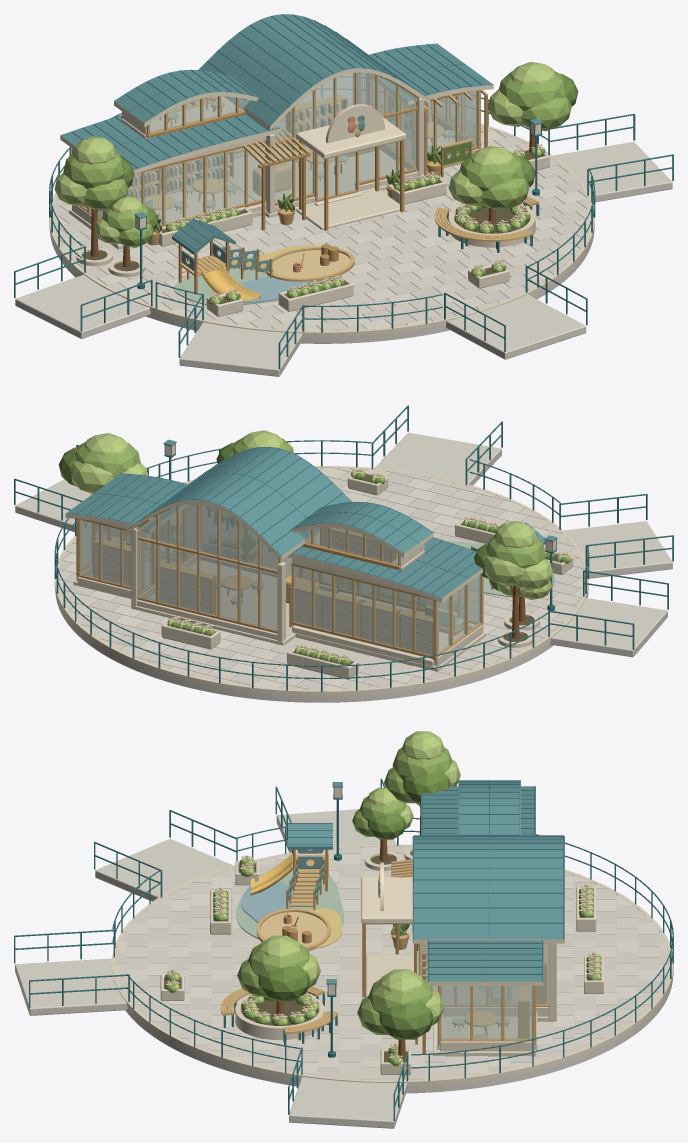
Rendered from parent-child-centre.glb.
3 views of the same model, one above another, from view 1: azimuth 30°, elevation 25°; view 2: azimuth 150°, elevation 25°; view 3: azimuth 270°, elevation 25° (orthographic). The views are drawn at different scales.
Visible parts, largest first — view 1: SiteAndBridgeStubs_Components, SiteAndBridgeStubs_Components__stone, MainCurvedHall__roof, MainCurvedHall__Clear warm architectural glazing, SiteAndBridgeStubs_Components__rail, LeftFamilyReadingWing__Clear warm architectural glazing, LeftFamilyReadingWing__roof, RightCareWing__roof, SiteAndBridgeStubs_Components__cream, UpperLeftDaylightLevel__roof, EntryCanopy__trim, MainCurvedHall__floor (+49 smaller); view 2: SiteAndBridgeStubs_Components, SiteAndBridgeStubs_Components__stone, MainCurvedHall__Clear warm architectural glazing, LeftFamilyReadingWing__Clear warm architectural glazing, MainCurvedHall__roof, SiteAndBridgeStubs_Components__rail, InteriorFurniture_Components__cream, SiteAndBridgeStubs_Components__cream, LeftFamilyReadingWing__roof, MainCurvedHall__cream, RightCareWing__roof, UpperLeftDaylightLevel__roof (+34 smaller); view 3: SiteAndBridgeStubs_Components, SiteAndBridgeStubs_Components__stone, MainCurvedHall__roof, SiteAndBridgeStubs_Components__rail, SiteAndBridgeStubs_Components__cream, RightCareWing__roof, RightCareWing__Clear warm architectural glazing, UpperLeftDaylightLevel__roof, MainCurvedHall__seam, RightCareWing__cream, EntryCanopy__trim, LeftFamilyReadingWing__roof (+30 smaller).
Boxes of the visible parts, x1=… form: SiteAndBridgeStubs_Components: x1=53, y1=125, x2=591, y2=330; SiteAndBridgeStubs_Components__stone: x1=15, y1=131, x2=672, y2=376; MainCurvedHall__roof: x1=198, y1=14, x2=430, y2=126; MainCurvedHall__Clear warm architectural glazing: x1=234, y1=72, x2=417, y2=202; SiteAndBridgeStubs_Components__rail: x1=14, y1=97, x2=673, y2=369; LeftFamilyReadingWing__Clear warm architectural glazing: x1=83, y1=142, x2=265, y2=224; LeftFamilyReadingWing__roof: x1=60, y1=114, x2=279, y2=170; RightCareWing__roof: x1=369, y1=44, x2=493, y2=100; SiteAndBridgeStubs_Components__cream: x1=49, y1=123, x2=594, y2=336; UpperLeftDaylightLevel__roof: x1=114, y1=70, x2=259, y2=123; EntryCanopy__trim: x1=296, y1=104, x2=406, y2=158; MainCurvedHall__floor: x1=227, y1=147, x2=407, y2=202; SiteAndBridgeStubs_Components: x1=58, y1=467, x2=585, y2=690; SiteAndBridgeStubs_Components__stone: x1=15, y1=432, x2=672, y2=702; MainCurvedHall__Clear warm architectural glazing: x1=138, y1=504, x2=336, y2=630; LeftFamilyReadingWing__Clear warm architectural glazing: x1=294, y1=566, x2=480, y2=655; MainCurvedHall__roof: x1=125, y1=447, x2=351, y2=556; SiteAndBridgeStubs_Components__rail: x1=14, y1=405, x2=673, y2=691; InteriorFurniture_Components__cream: x1=94, y1=529, x2=431, y2=658; SiteAndBridgeStubs_Components__cream: x1=54, y1=466, x2=588, y2=695; LeftFamilyReadingWing__roof: x1=291, y1=537, x2=482, y2=598; MainCurvedHall__cream: x1=131, y1=505, x2=339, y2=645; RightCareWing__roof: x1=66, y1=473, x2=187, y2=529; UpperLeftDaylightLevel__roof: x1=291, y1=502, x2=433, y2=553; SiteAndBridgeStubs_Components: x1=115, y1=846, x2=669, y2=1080; SiteAndBridgeStubs_Components__stone: x1=15, y1=809, x2=672, y2=1128; MainCurvedHall__roof: x1=412, y1=836, x2=564, y2=939; SiteAndBridgeStubs_Components__rail: x1=14, y1=778, x2=673, y2=1120; SiteAndBridgeStubs_Components__cream: x1=111, y1=844, x2=673, y2=1086; RightCareWing__roof: x1=427, y1=940, x2=543, y2=981; RightCareWing__Clear warm architectural glazing: x1=442, y1=986, x2=532, y2=1039; UpperLeftDaylightLevel__roof: x1=458, y1=780, x2=520, y2=835; MainCurvedHall__seam: x1=413, y1=835, x2=564, y2=938; RightCareWing__cream: x1=433, y1=1011, x2=537, y2=1056; EntryCanopy__trim: x1=361, y1=862, x2=412, y2=923; LeftFamilyReadingWing__roof: x1=421, y1=786, x2=535, y2=835.
Size of the model in its own units: 24.46 by 5.38 by 21.66.
